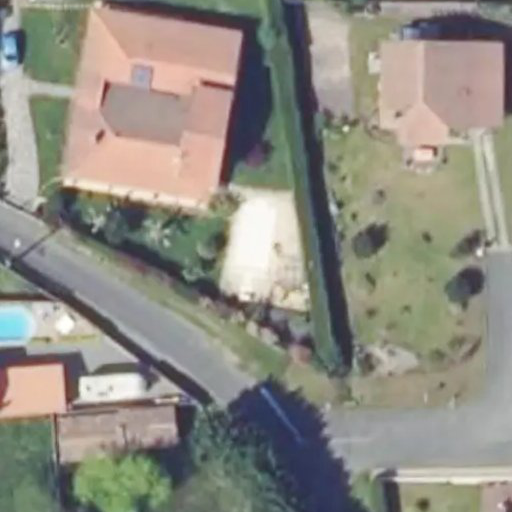pool: (229, 198, 274, 294)
